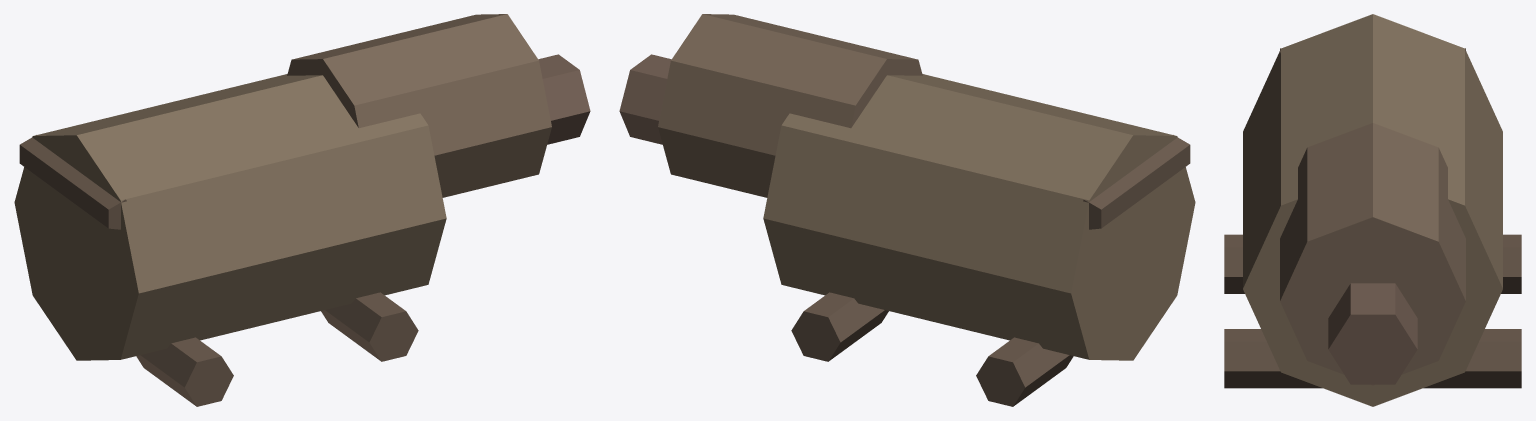
File: zombie_dog.glb
3 views of the same model, side by side, from view 1: azimuth 30°, elevation 25°; view 2: azimuth 150°, elevation 25°; view 3: azimuth 270°, elevation 25° (orthographic). The views are drawn at different scales.
Visible parts, largest first — view 1: geometry_0; view 2: geometry_0; view 3: geometry_0.
Part boxes in pixels (x1,y1,x2,y2): geometry_0: (14, 14, 590, 406); geometry_0: (619, 14, 1195, 406); geometry_0: (1224, 14, 1521, 406).
Bounding box in the file's own units: 1.64 × 0.7693 × 0.8.
